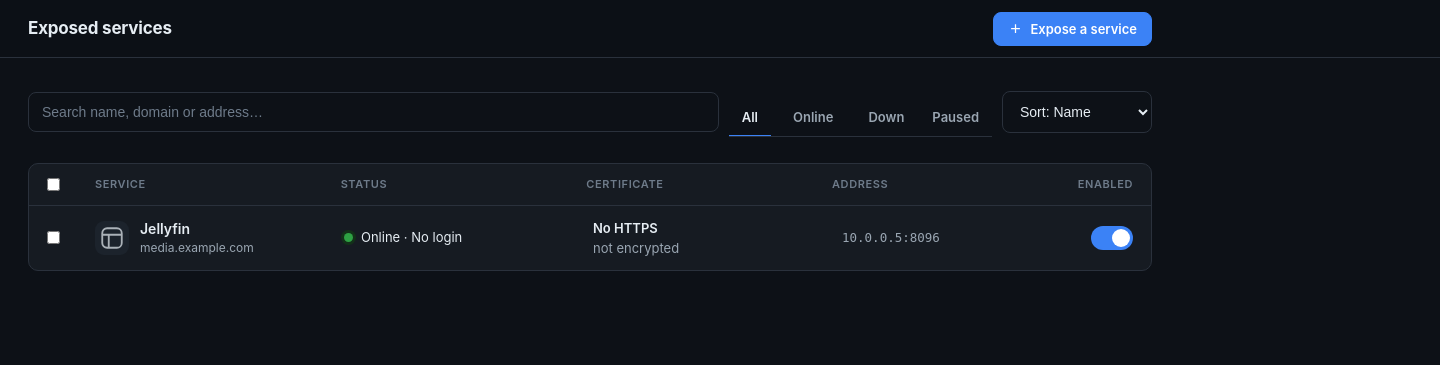
Test: Services › reveals the bulk-action bar only after a row is selected
Expected: the text "selected" is not shown
Click the checkbox named "Select Jellyfin".
click(54, 238)  # box left=47, top=231, right=60, bottom=244
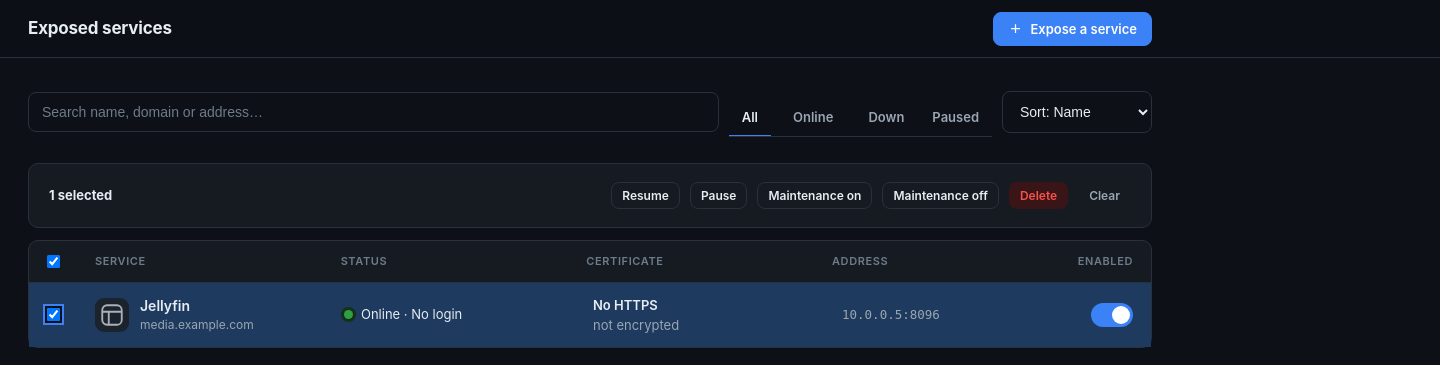
Expected: the text "1 selected" is shown, left=49, top=186, right=112, bottom=205
Expected: the button "Resume" is shown, left=611, top=182, right=680, bottom=209
Expected: the button "Pause" is shown, left=690, top=182, right=748, bottom=209
